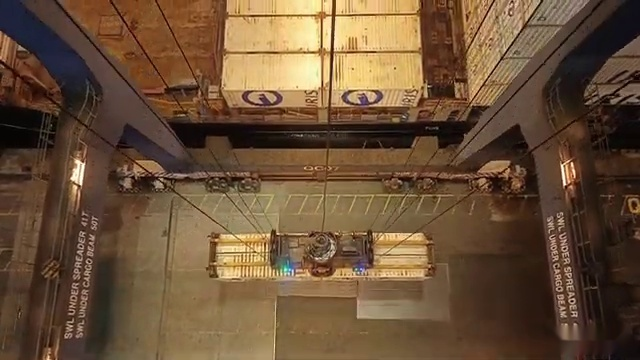container: (199, 226, 438, 287), (223, 54, 427, 111), (224, 15, 425, 53), (222, 5, 423, 38), (222, 0, 424, 23), (222, 0, 421, 20), (455, 3, 640, 24), (209, 0, 435, 17)
guide_mark: (109, 196, 542, 214), (66, 350, 560, 360)
spreader: (201, 222, 446, 290)
target_slot: (196, 227, 443, 294)
